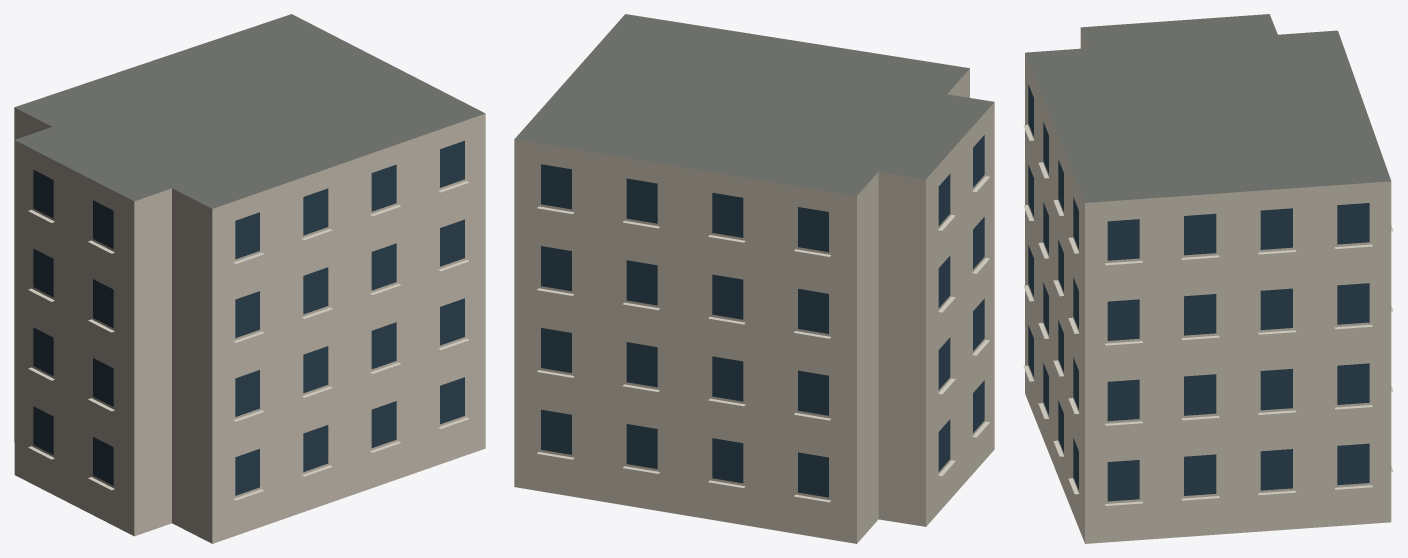
The picture shows the model from 3 angles, left to right: view 1: azimuth 30°, elevation 25°; view 2: azimuth 150°, elevation 25°; view 3: azimuth 270°, elevation 25°; orthographic projection. The views are drawn at different scales.
Visible parts, largest first — view 1: Footprint 0, Inferred window bays, Window sills; view 2: Footprint 0, Inferred window bays, Window sills; view 3: Footprint 0, Inferred window bays, Window sills.
Boxes of the visible parts, <box> form: Footprint 0: <box>14,14,485,543</box>; Inferred window bays: <box>33,140,464,495</box>; Window sills: <box>28,181,469,500</box>; Footprint 0: <box>514,14,994,543</box>; Inferred window bays: <box>541,135,984,497</box>; Window sills: <box>537,176,989,502</box>; Footprint 0: <box>1025,14,1391,543</box>; Inferred window bays: <box>1028,84,1369,501</box>; Window sills: <box>1023,124,1393,505</box>.
Size of the model in its own units: 17.13 by 14.28 by 14.06.
